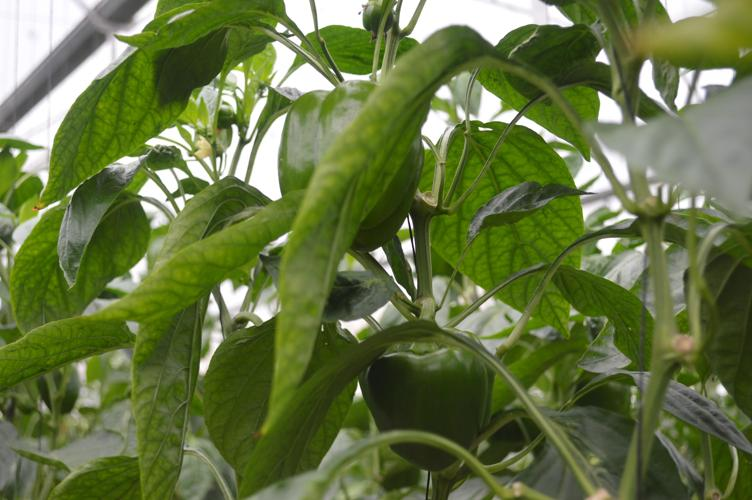BellPepper: (268, 66, 418, 255), (339, 321, 494, 477)
